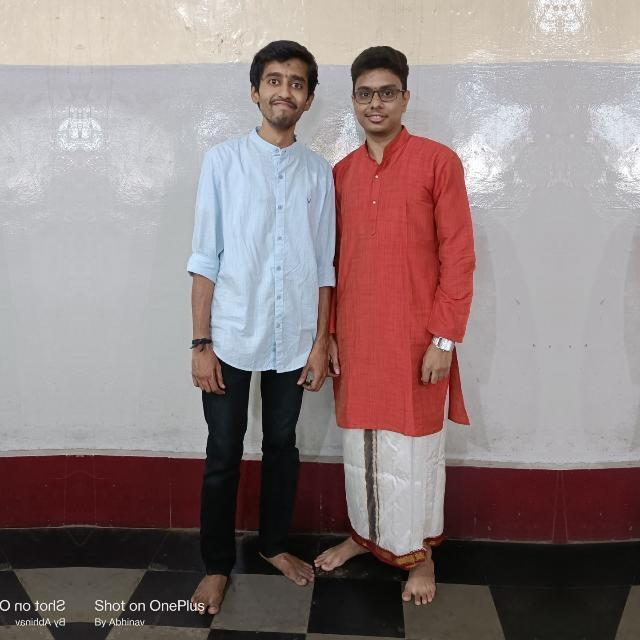person: (326, 41, 476, 598), (213, 38, 321, 620)
